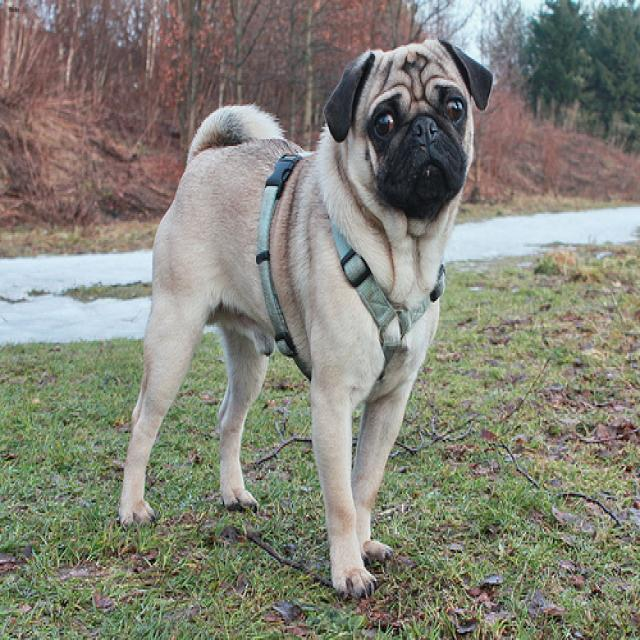dog-pug: (110, 33, 500, 609)
